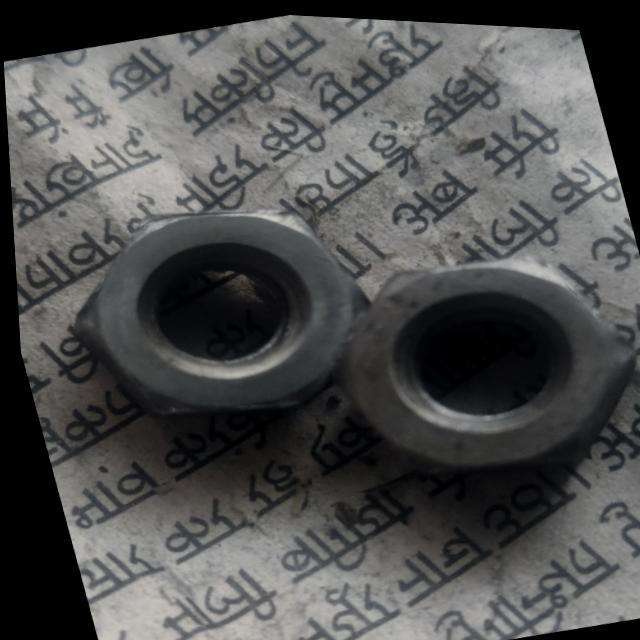disinfected nut: (331, 254, 633, 466), (69, 209, 361, 413)
